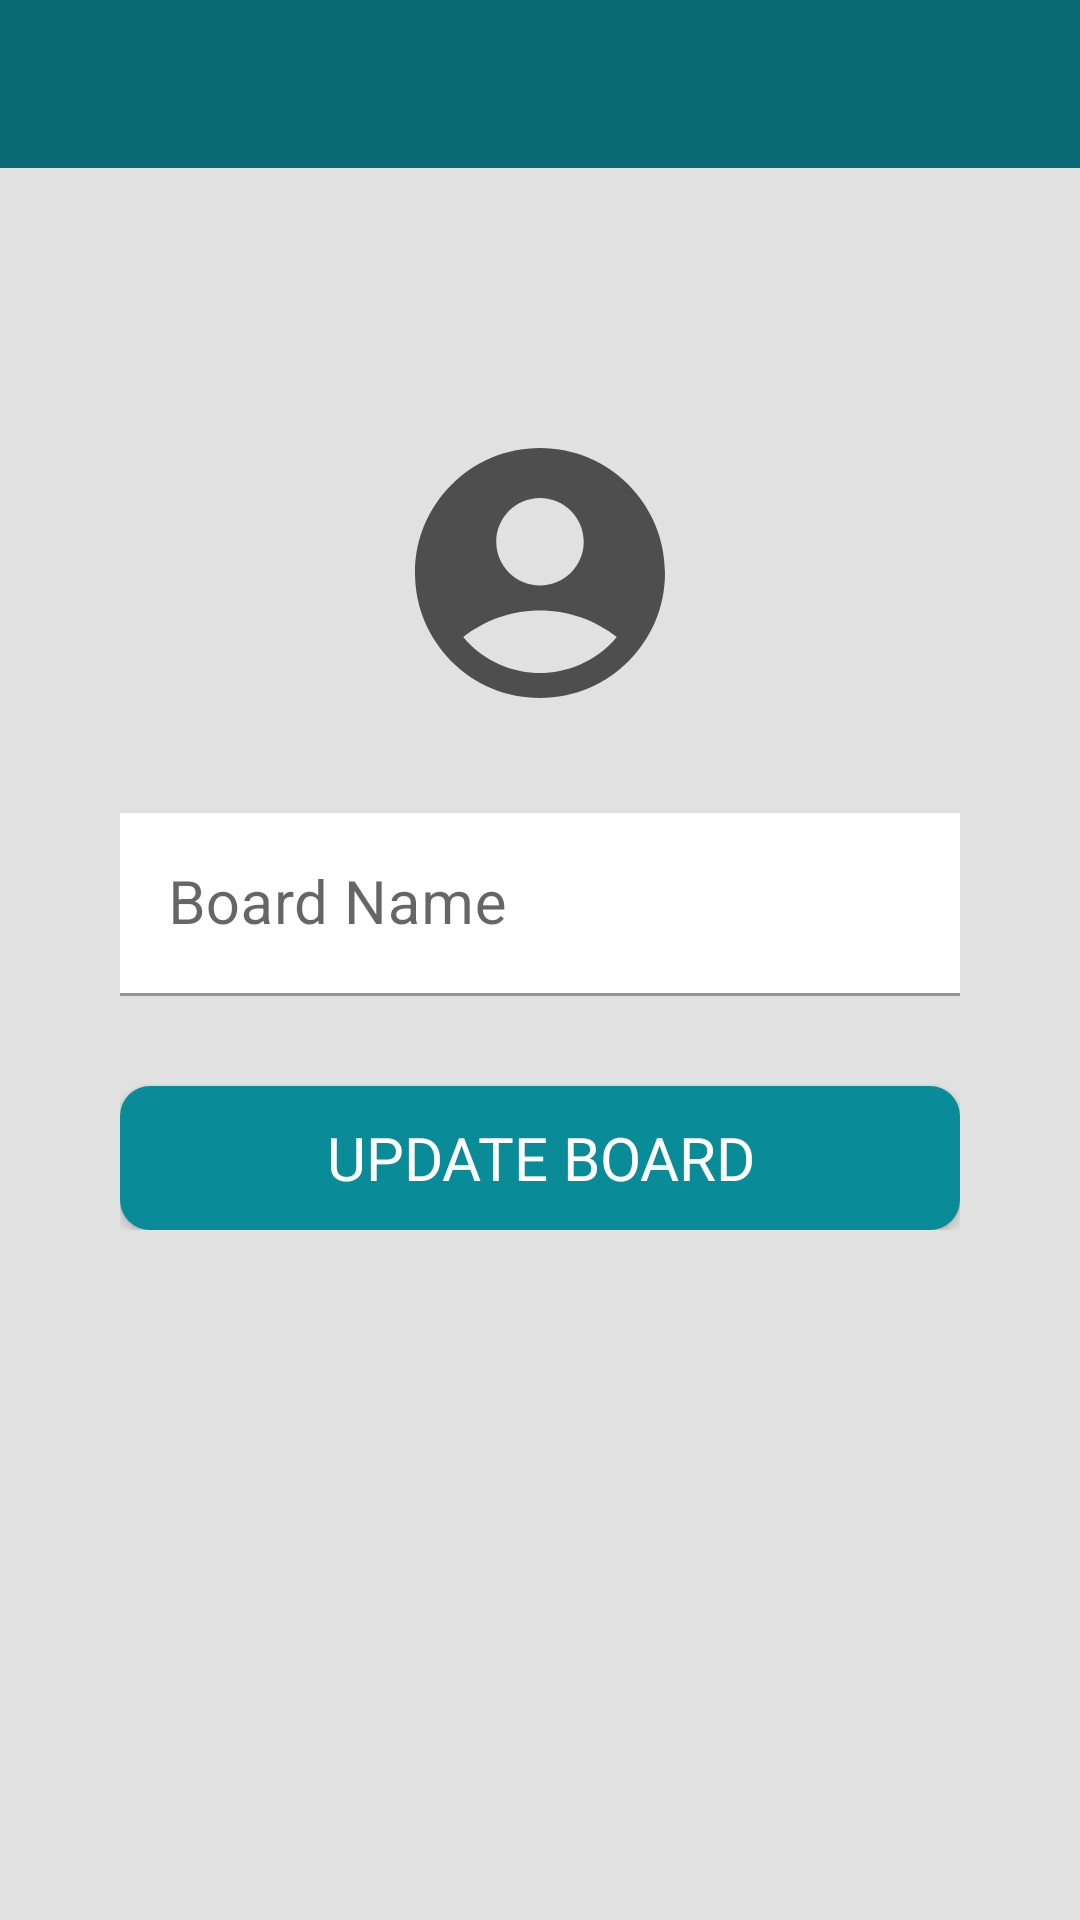

Screen size 1080 × 1920. Icon name, then its center in pixels as (x=x, y=y):
account circle: (x=540, y=573)
